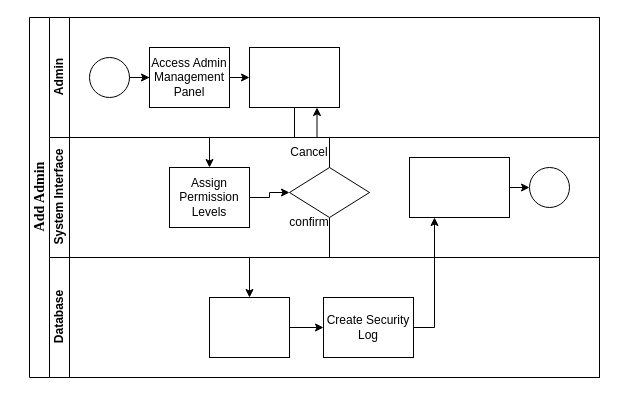
Some shapes in this 617 by 395 pixel diagram are drawn without their labels. The shapes that lost their labels are listed below. From the top down, each one's centre as x and y in pixels, then its label:
At point (294, 77): "Input New Admin Credentials".
At point (329, 192): "Confirm Entry?".
At point (459, 187): "Display Success & Notify New Admin".
At point (249, 327): "Insert into Admin_Table".
